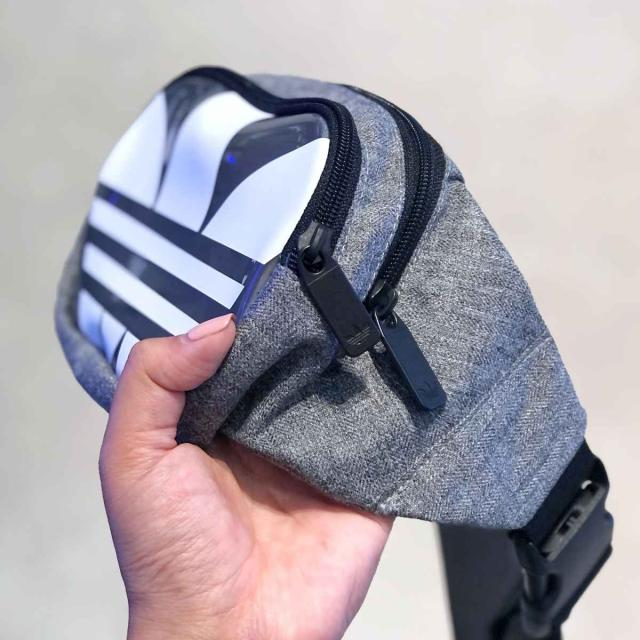handbag: (47, 67, 587, 543)
